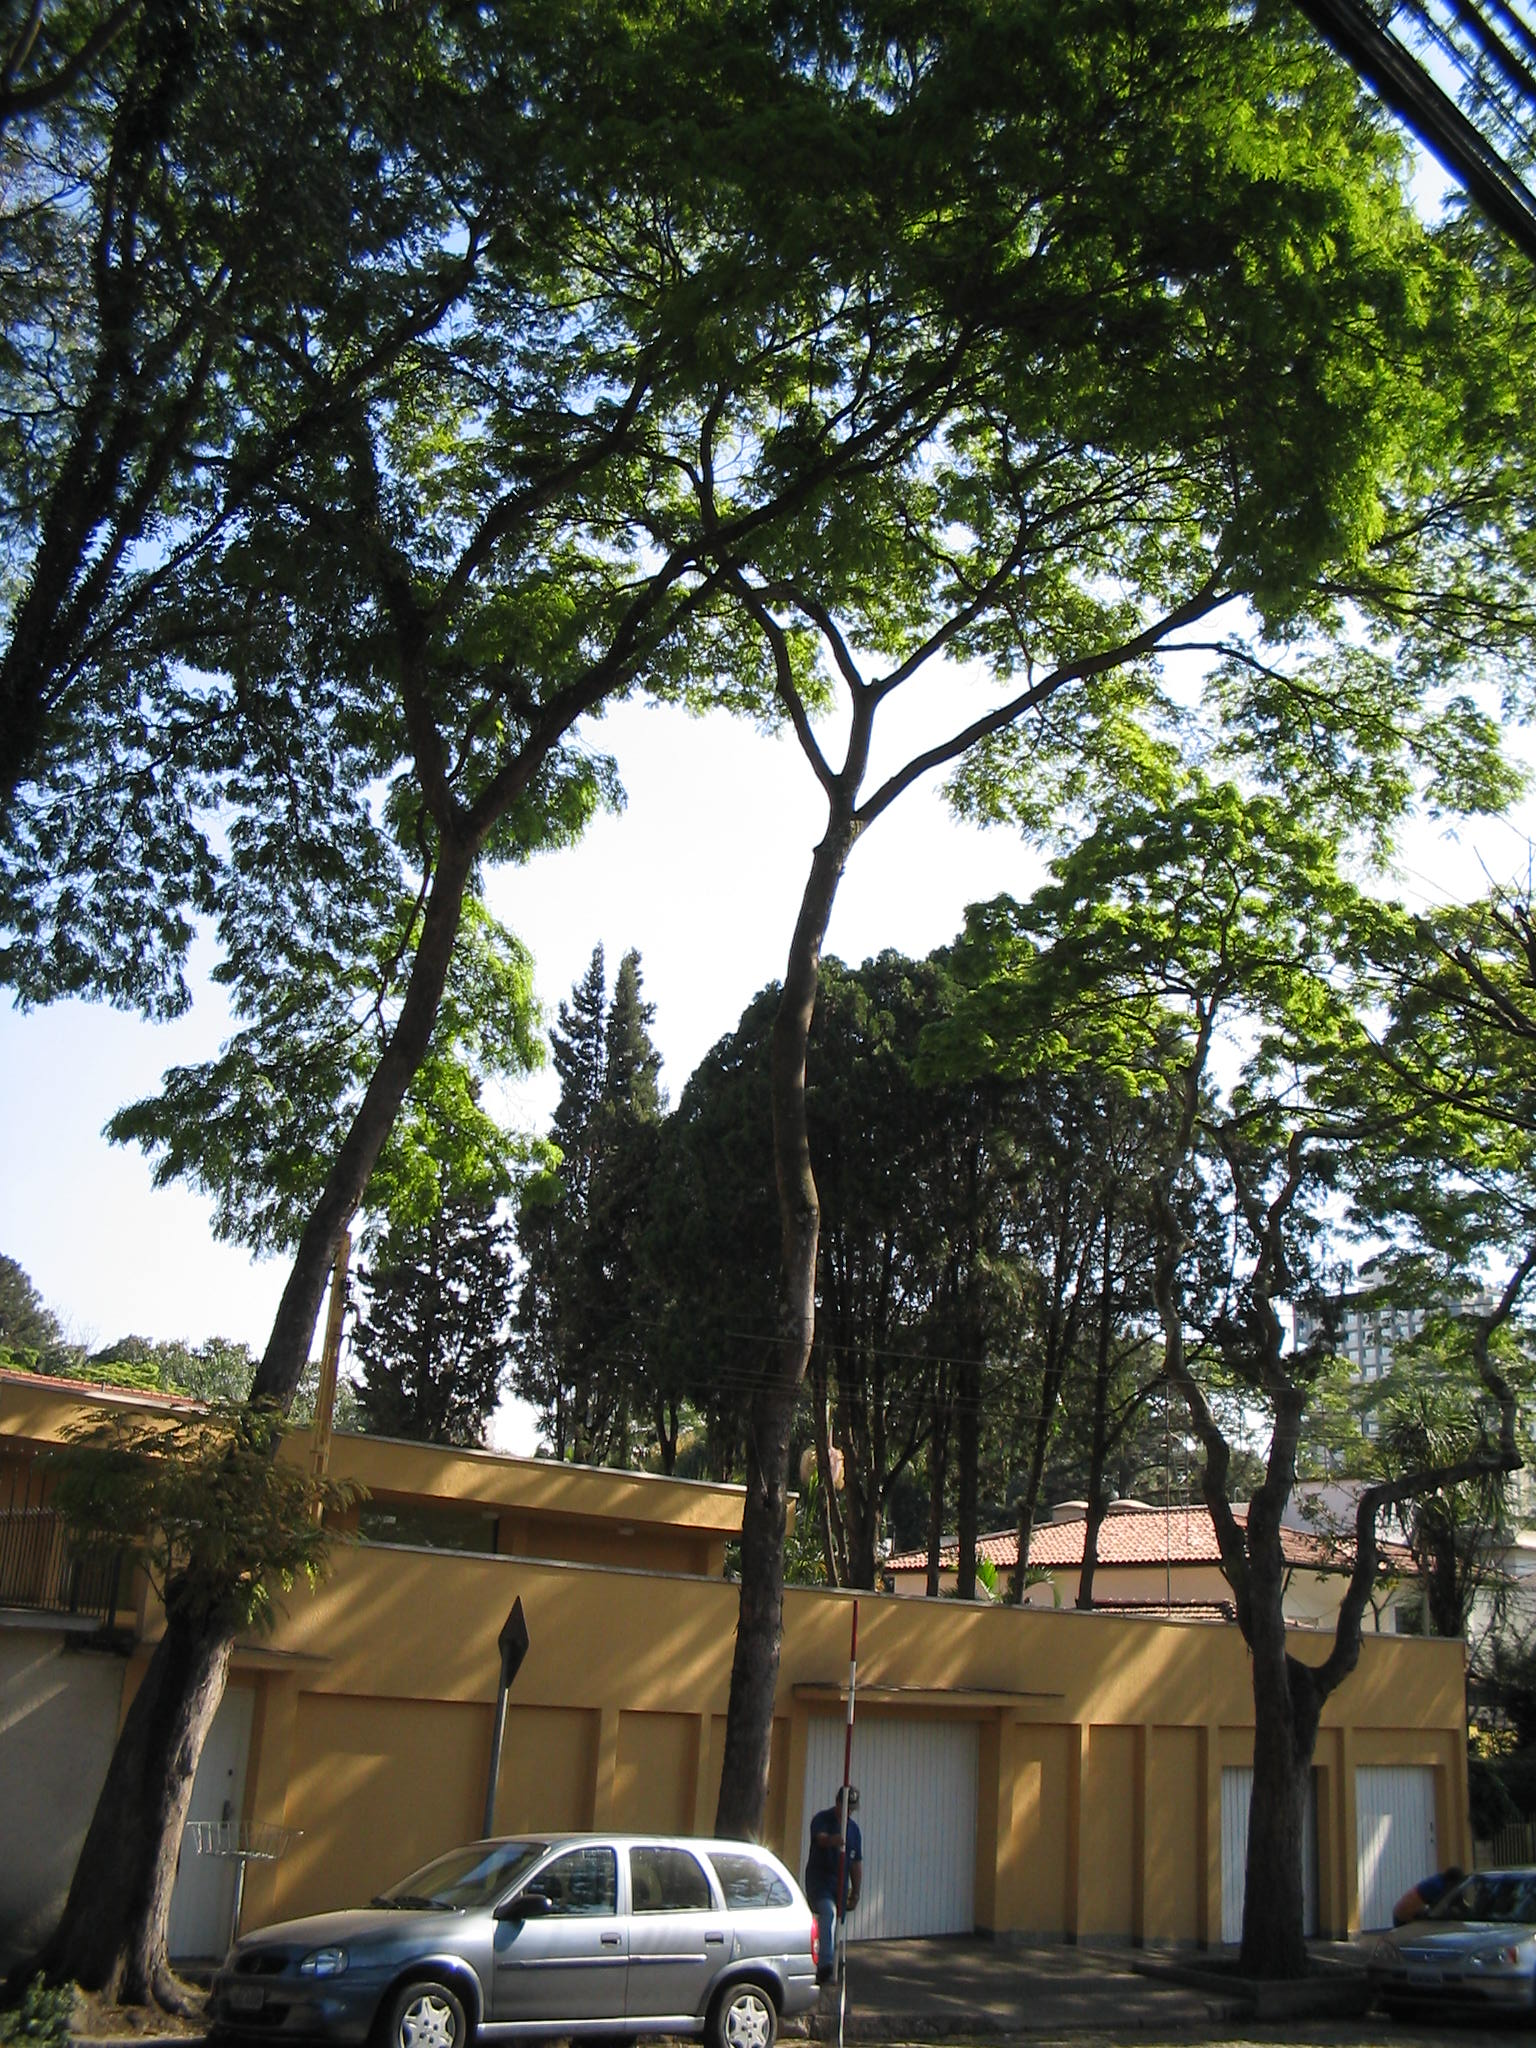crown: (916, 795, 1531, 1276)
stem: (52, 821, 486, 2004), (702, 821, 841, 1987), (1199, 1671, 1352, 1971)
stick: (828, 1596, 871, 1979)
tree: (681, 366, 1239, 1974), (907, 792, 1533, 1975)
